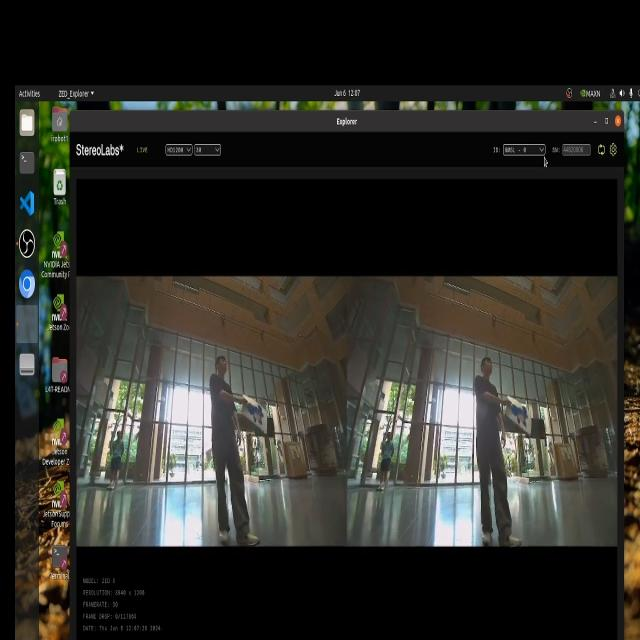blue: (505, 400, 533, 444), (245, 396, 269, 428)
